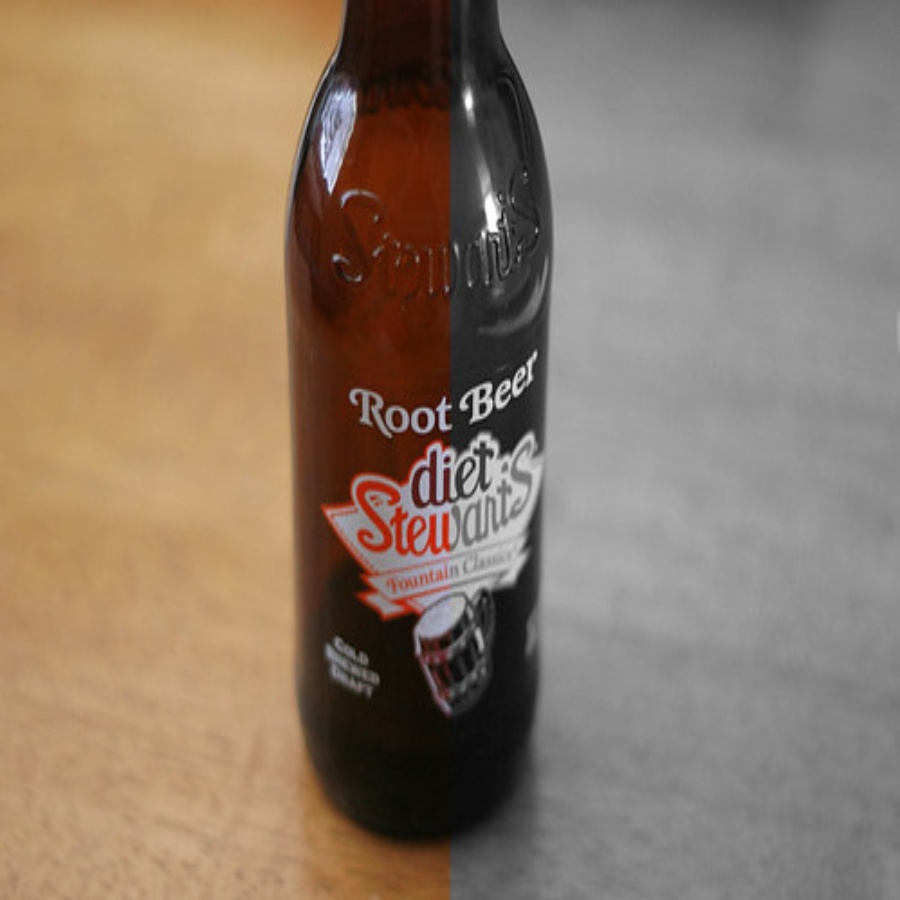beer: (282, 1, 552, 829)
